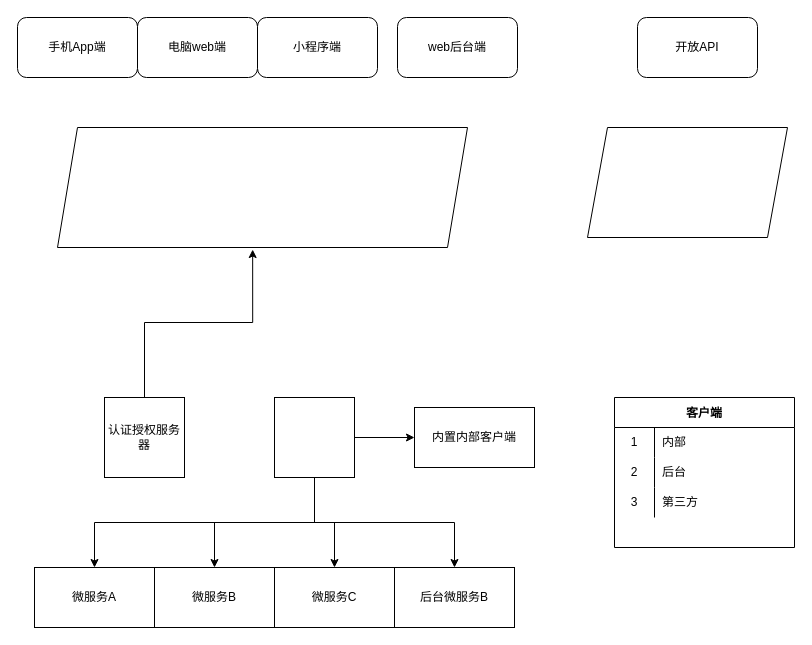
Some shapes in this 812 by 645 pixel diagram are drawn without their labels. The centre of each missing label's shape, as x and y in pixels:
"内部登陆接口， 方式1）密码，2）短信，3）微信，4）企业微信，5）gitee 返回值 token" goes at point 262,187.
"发起授权=》开放登陆接口=>" goes at point 687,182.
"网关" goes at point 314,437.
